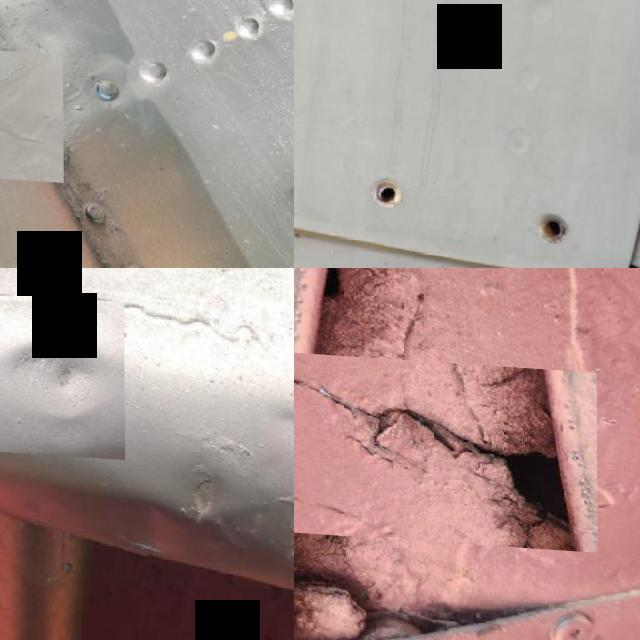Crack: (294, 346, 597, 544)
Dent: (110, 416, 276, 577), (0, 288, 124, 454)
Missing_Fastener: (358, 158, 417, 218), (524, 190, 580, 253)
